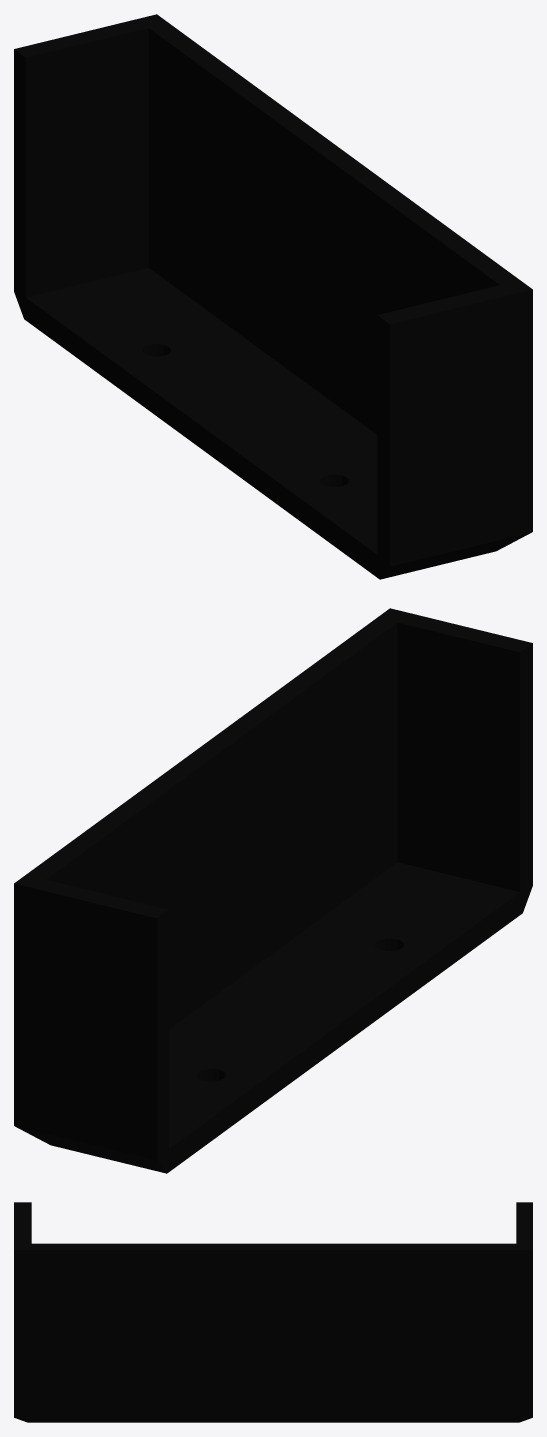
Rendered from Bumper.glb.
3 renders of one model, top to bottom at view 1: azimuth 30°, elevation 25°; view 2: azimuth 150°, elevation 25°; view 3: azimuth 270°, elevation 25°, orthographic. The views are drawn at different scales.
Visible parts, largest first — view 1: BumperFront; view 2: BumperFront; view 3: BumperFront.
Part boxes in pixels (x1,y1,x2,y2): BumperFront: [14, 14, 532, 579]; BumperFront: [14, 608, 532, 1173]; BumperFront: [14, 1202, 532, 1422].
Bounding box in the file's own units: 0.9618 × 1.69 × 4.38.
1 material, 1 textured.
